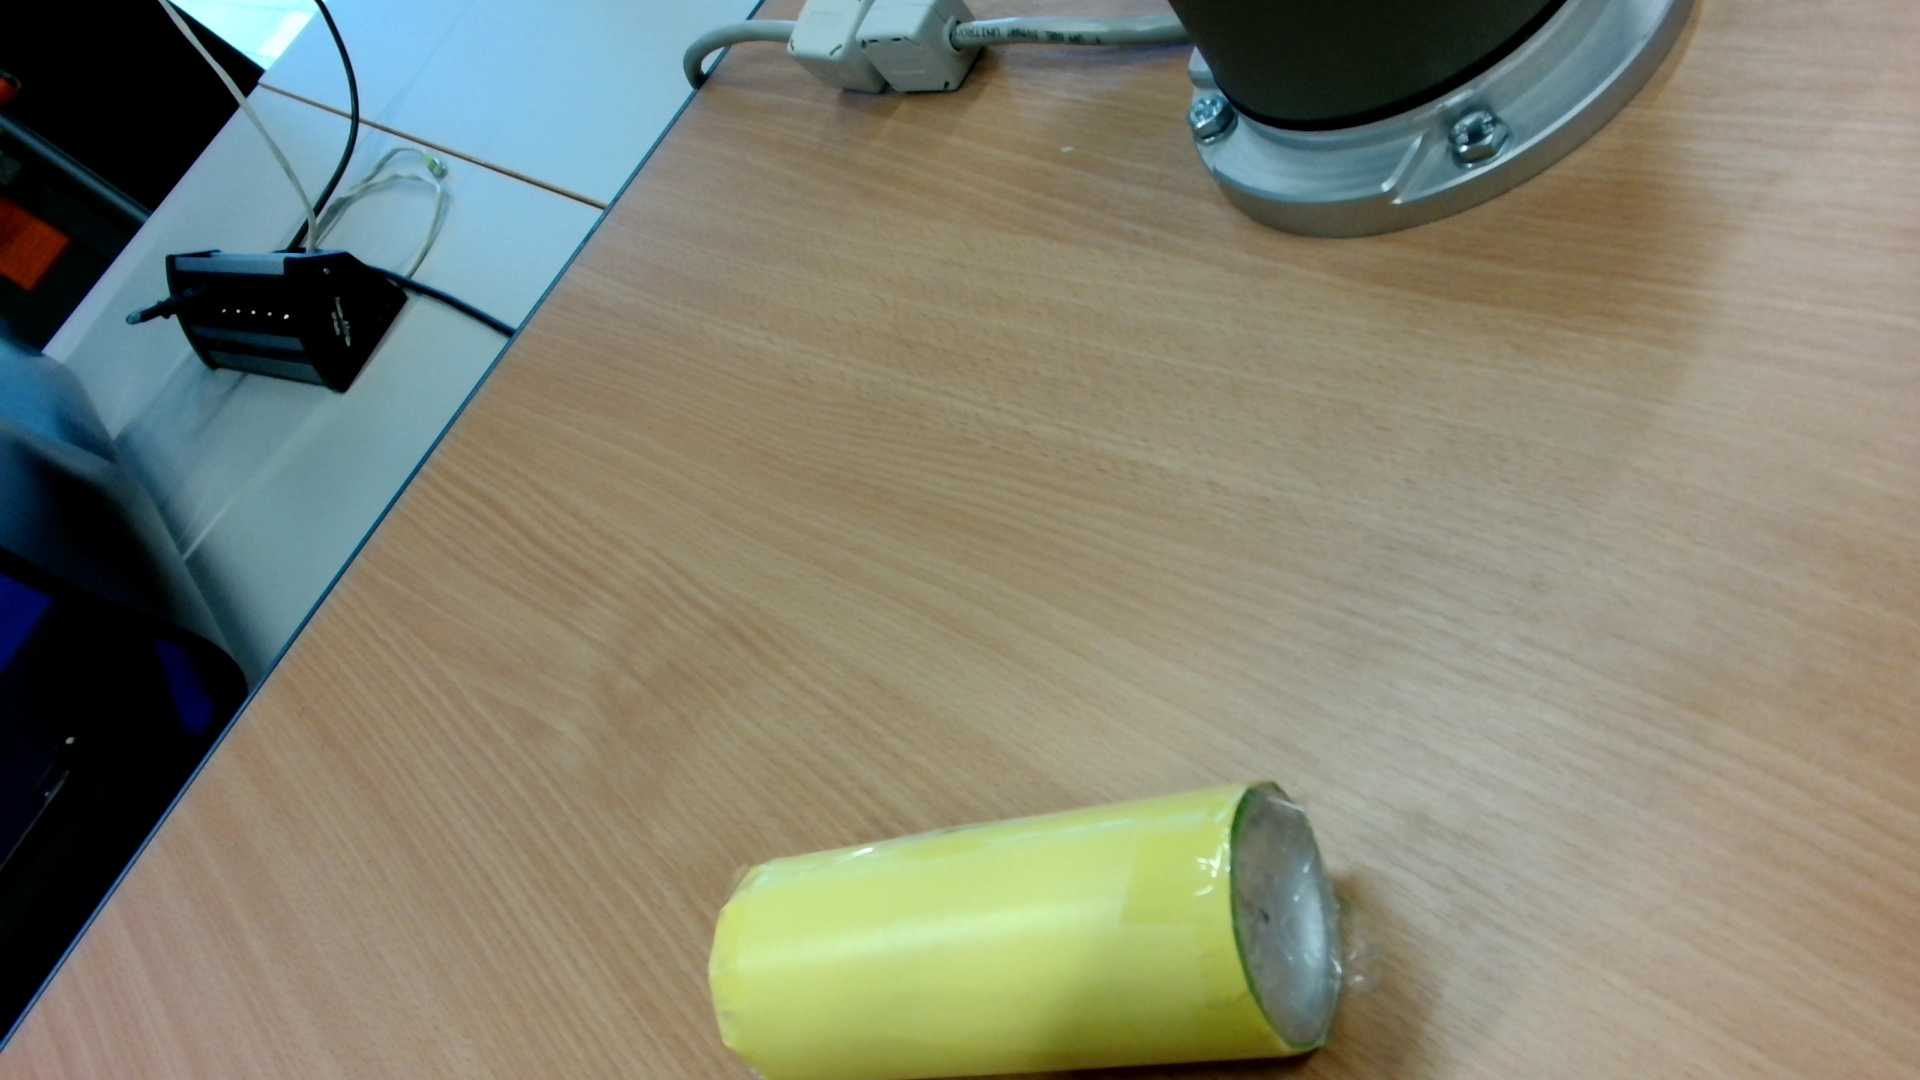Cylinder: (702, 764, 1357, 1080)
